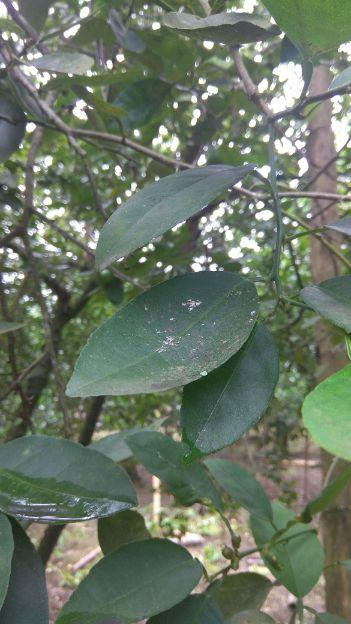Myzus persicae: (155, 332, 182, 355), (180, 295, 205, 313)
